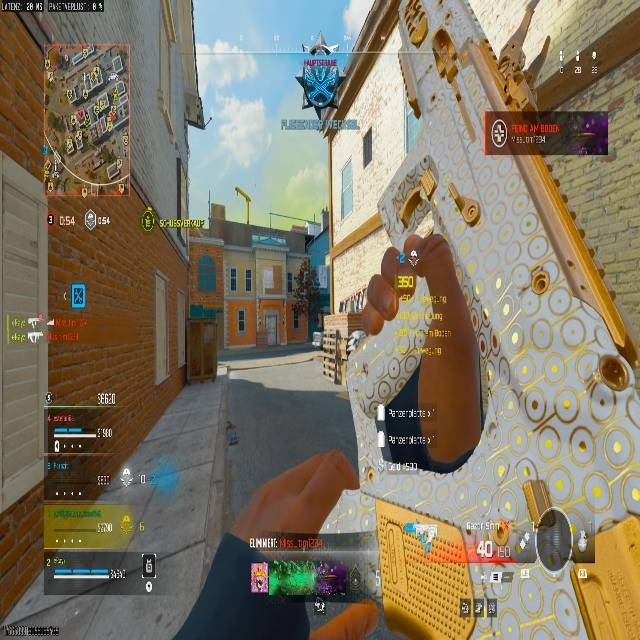player: (294, 43, 340, 123)
